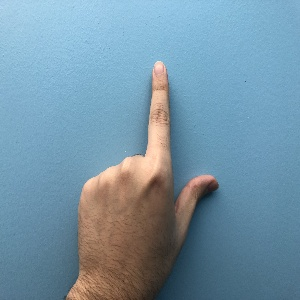hand: (78, 61, 219, 277)
